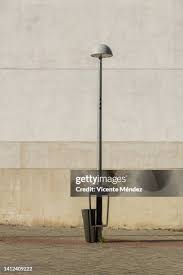light_pole: (91, 44, 114, 243)
